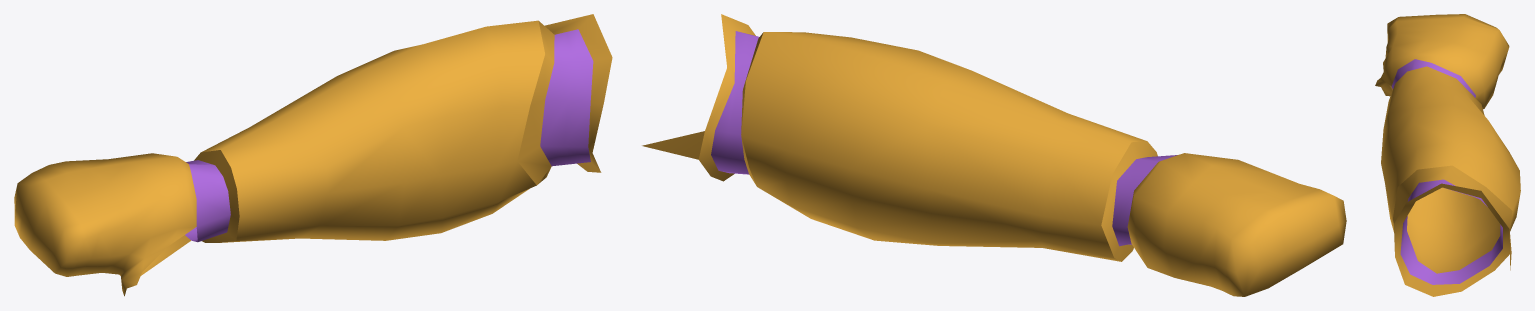
Rendered from mannequin_hand_open.glb.
3 renders of one model, left to right at view 1: azimuth 30°, elevation 25°; view 2: azimuth 150°, elevation 25°; view 3: azimuth 270°, elevation 25°, orthographic. The views are drawn at different scales.
Visible parts, largest first — view 1: MannequinHand; view 2: MannequinHand; view 3: MannequinHand.
Part boxes in pixels (x1=…): MannequinHand: x1=14, y1=14, x2=612, y2=296; MannequinHand: x1=642, y1=14, x2=1346, y2=296; MannequinHand: x1=1375, y1=14, x2=1520, y2=296.
Bounding box in the file's own units: 0.4455 × 0.1238 × 0.121.
